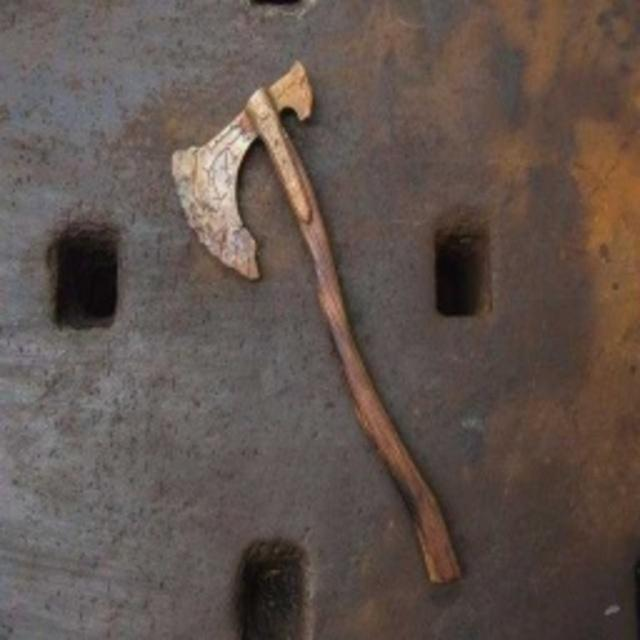ax: (166, 51, 469, 586)
